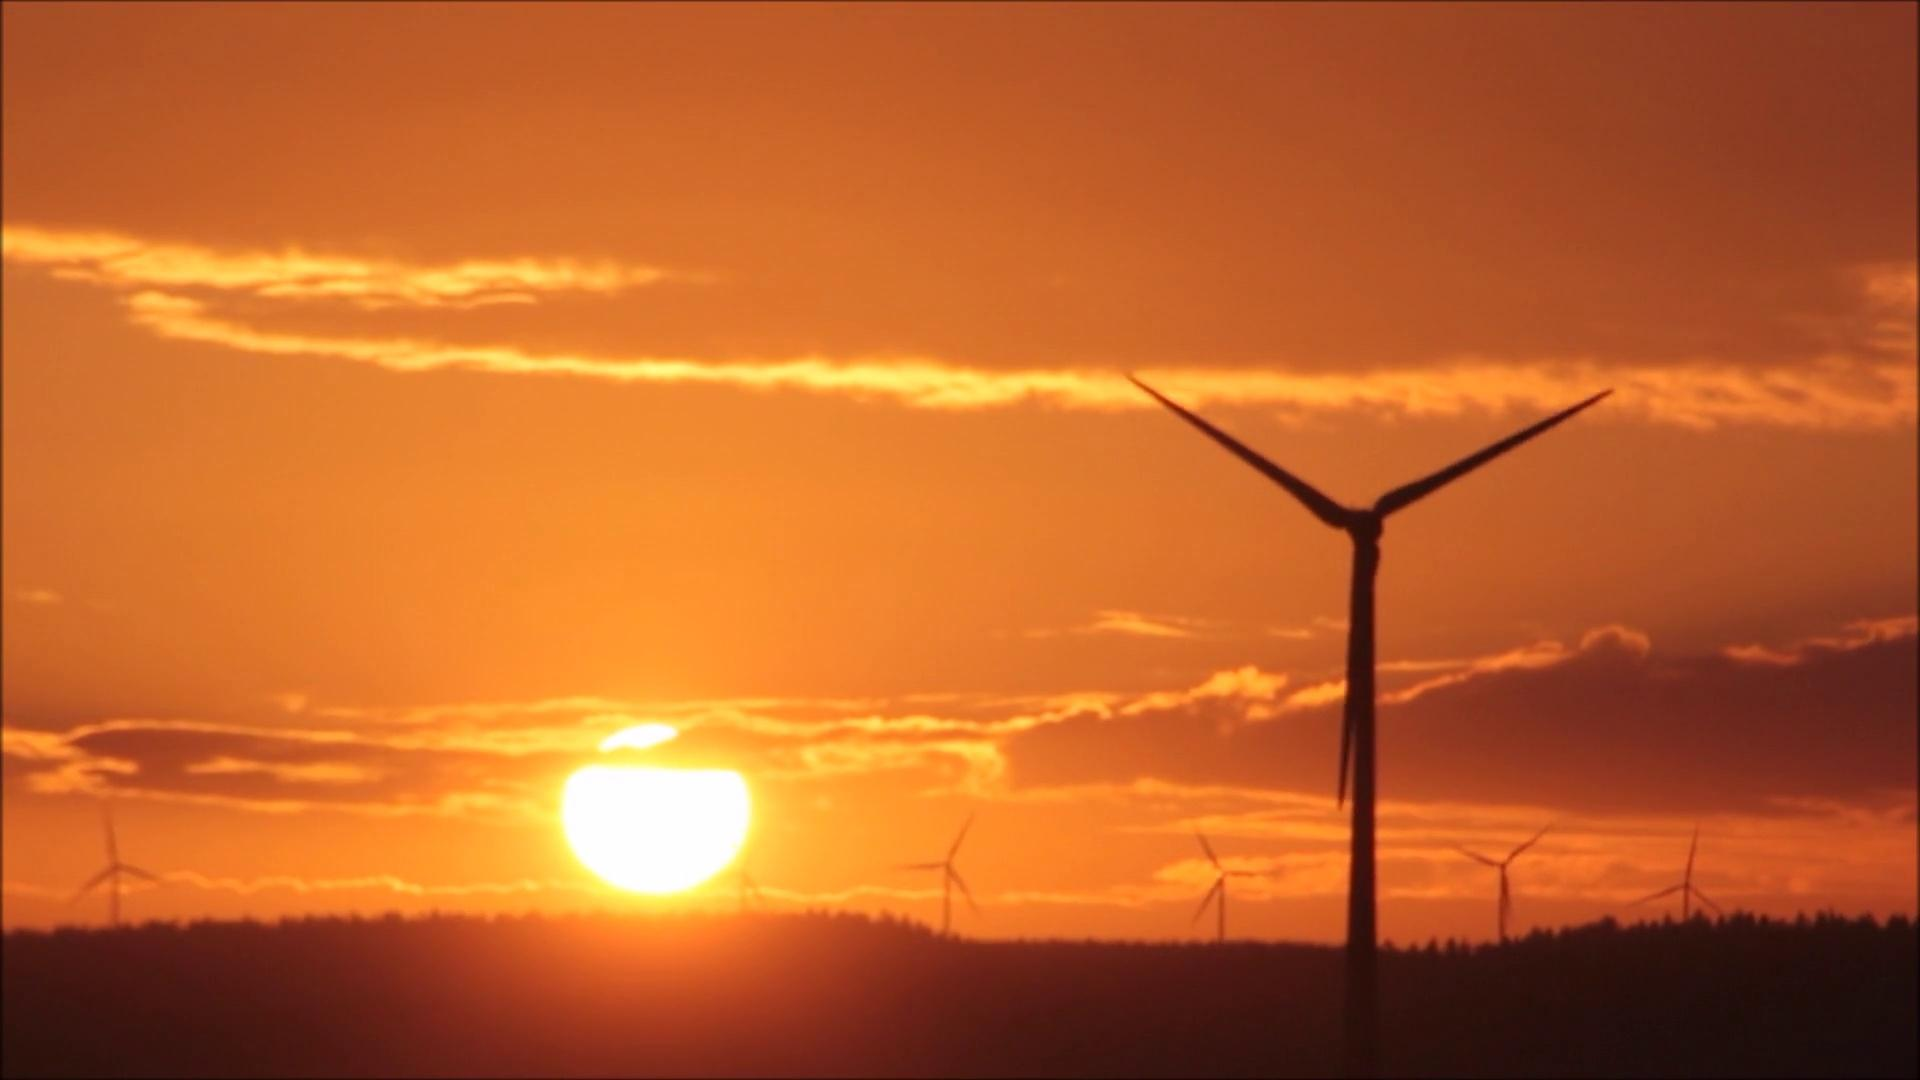turbine: (1027, 260, 1651, 1002), (858, 773, 1021, 986), (1416, 770, 1564, 990), (1596, 790, 1749, 990), (1127, 794, 1291, 977), (28, 793, 186, 943), (682, 807, 791, 940)
